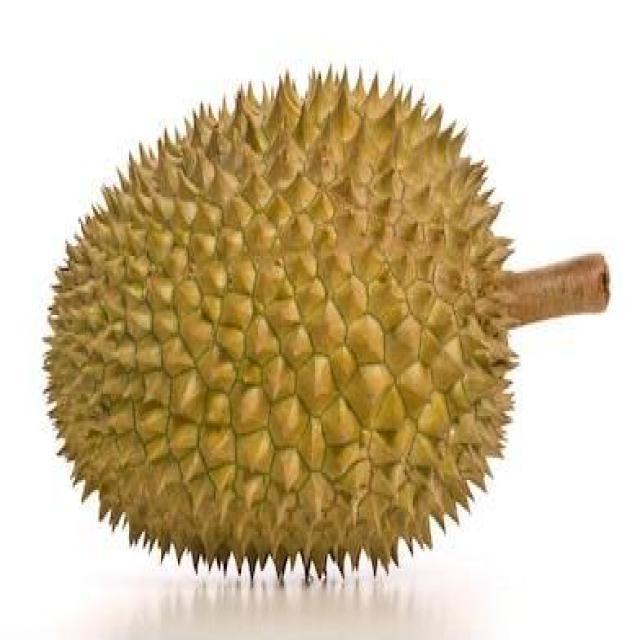mature: (45, 72, 515, 576)
